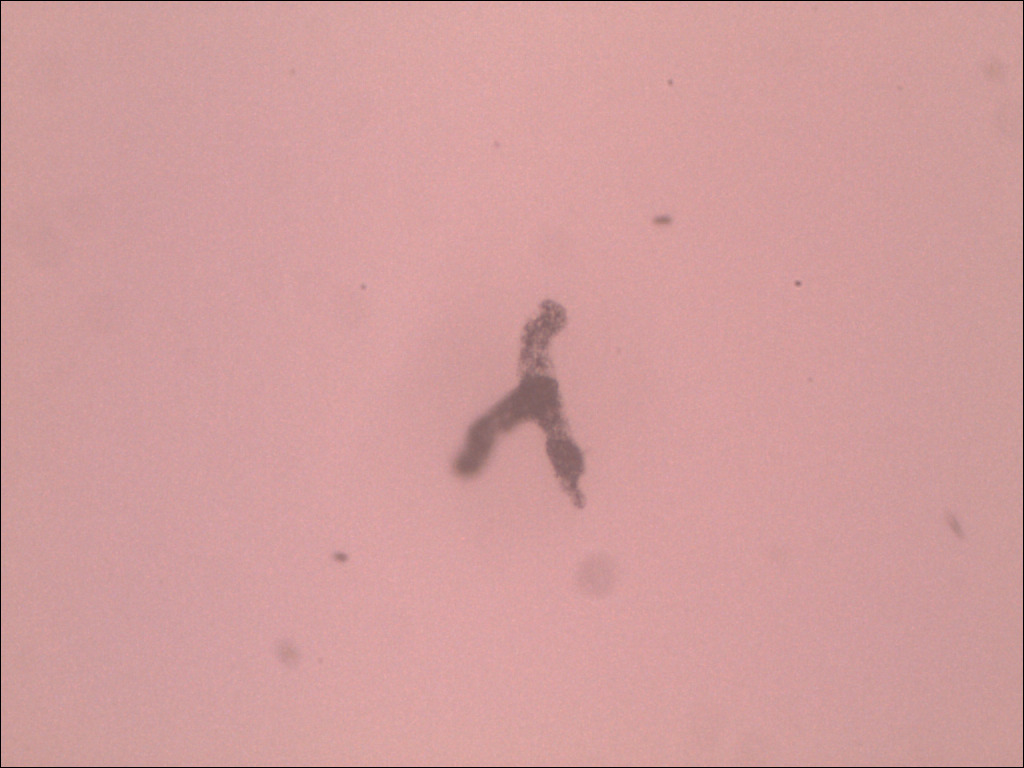amoeba: (439, 291, 613, 521)
